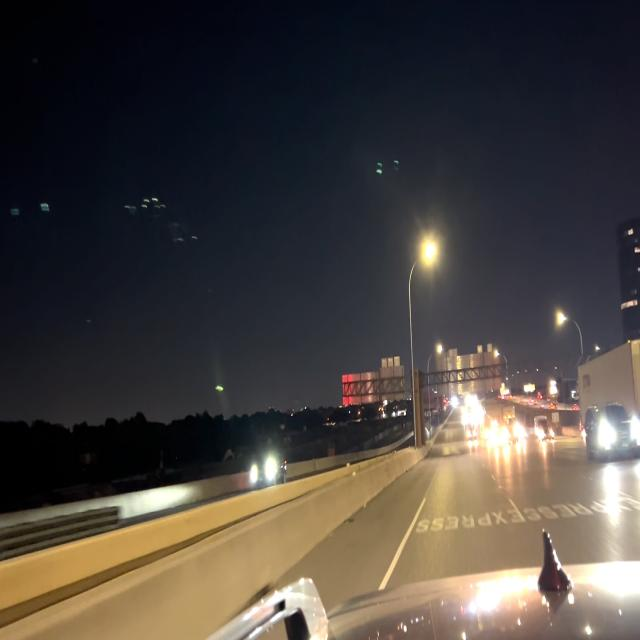back-of-sign: (433, 343, 501, 395), (342, 355, 405, 410)
